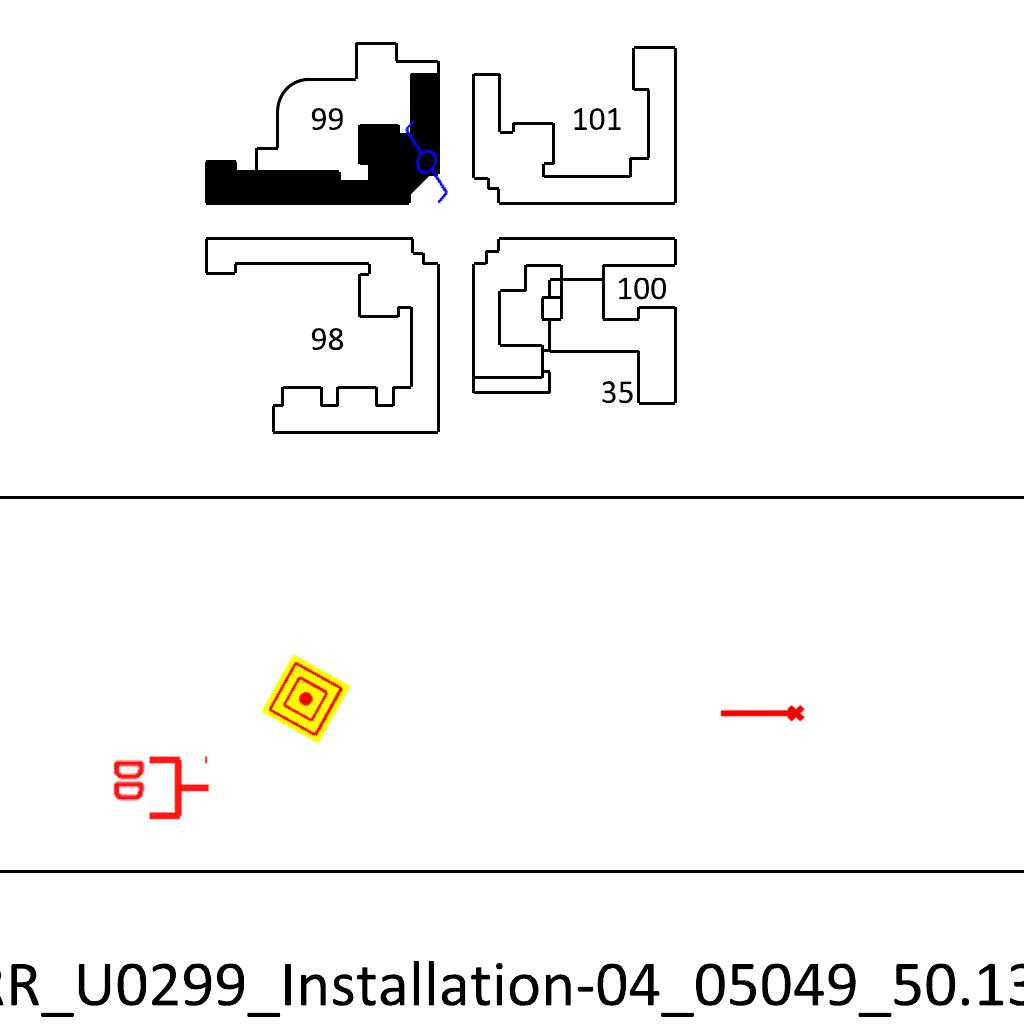ASR_Ansaugoeffnung: (718, 703, 806, 726)
Datenanschluss_zweifach: (109, 755, 212, 824)
NAM-Nichtautomatischer_Melder: (261, 654, 351, 744)
Wechselschalter: (374, 114, 474, 216)
